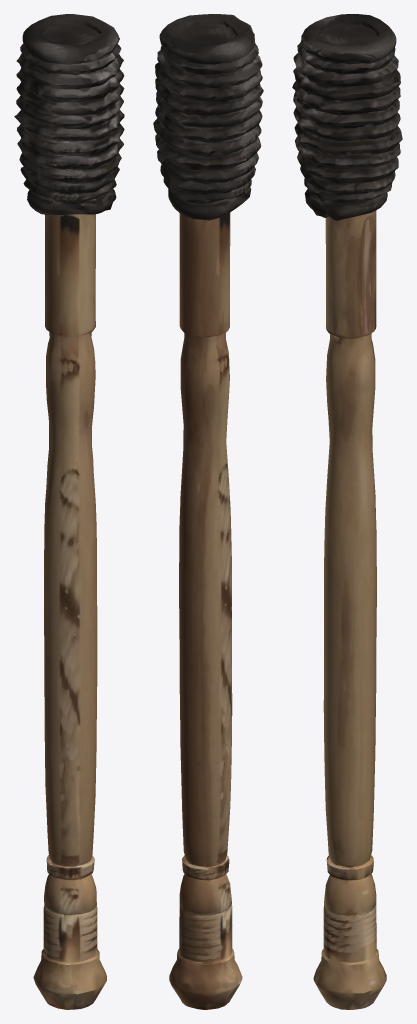
The model's file is TorchUnlitTar.glb.
3 views of the same model, side by side, from view 1: azimuth 90°, elevation 25°; view 2: azimuth 150°, elevation 25°; view 3: azimuth 330°, elevation 25° (orthographic).
Parts seen in each view (by area): view 1: TorchUnlitTar; view 2: TorchUnlitTar; view 3: TorchUnlitTar.
Boxes of the visible parts, x1,y1,x2,y2 form: TorchUnlitTar: [14, 14, 124, 1009]; TorchUnlitTar: [153, 14, 263, 1009]; TorchUnlitTar: [292, 14, 402, 1009].
Bounding box in the file's own units: 0.0885 × 0.8401 × 0.0866.
Materials: 1 (1 with a texture image).
